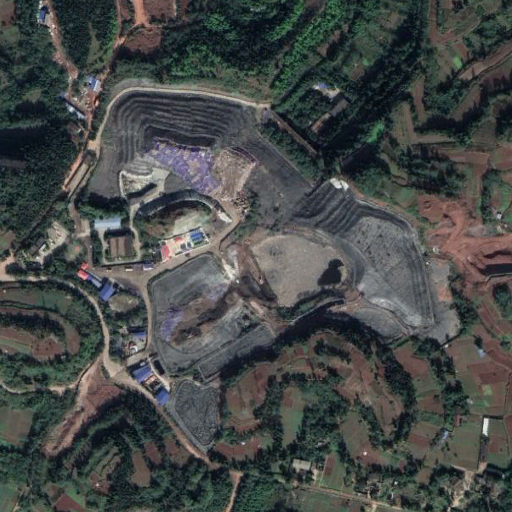lf: (69, 85, 433, 372)
